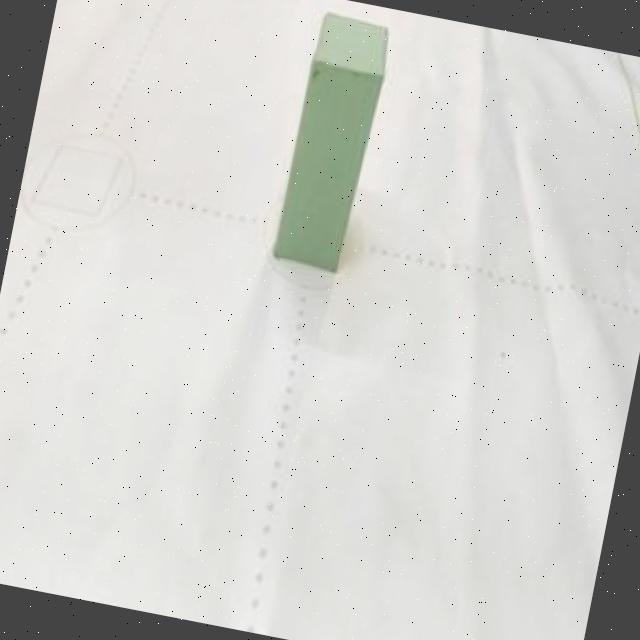greenbox: (264, 5, 394, 276)
